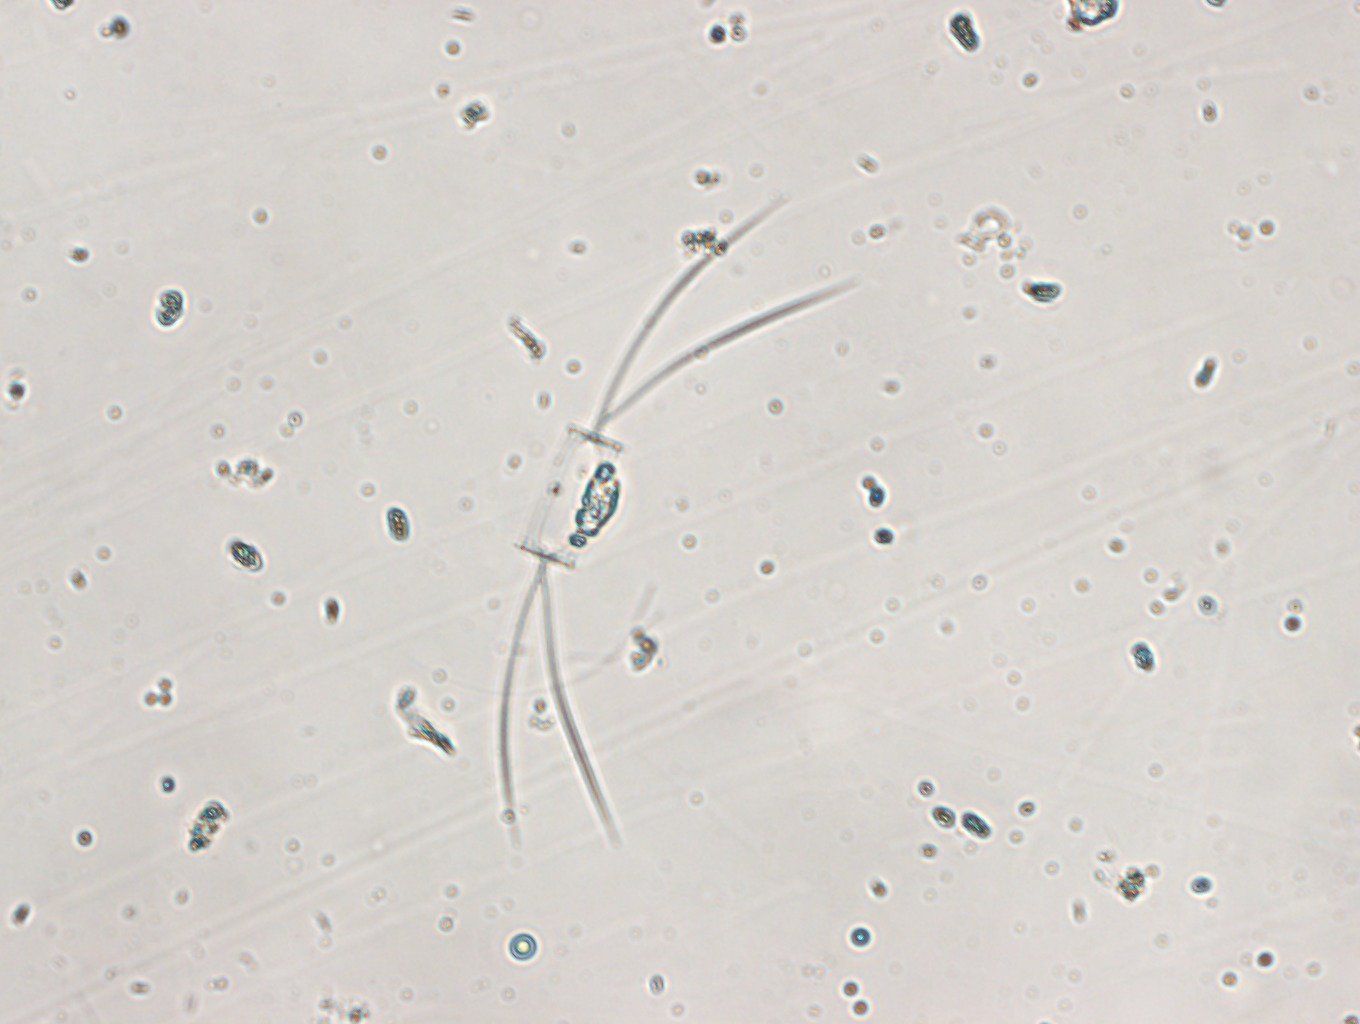chaetoceros: (483, 189, 872, 851)
